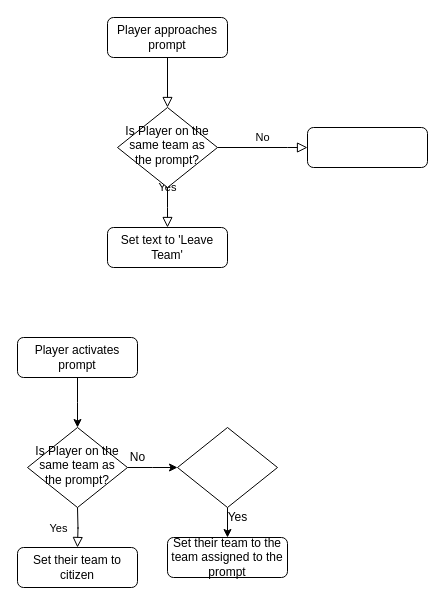
Some shapes in this 445 by 605 pixel diagram are drawn without their labels. Each missing label, with the box of its shape:
Does the player meet the team requirements (config): (176, 426, 278, 508)
Set text to 'Join Team': (306, 126, 428, 168)
